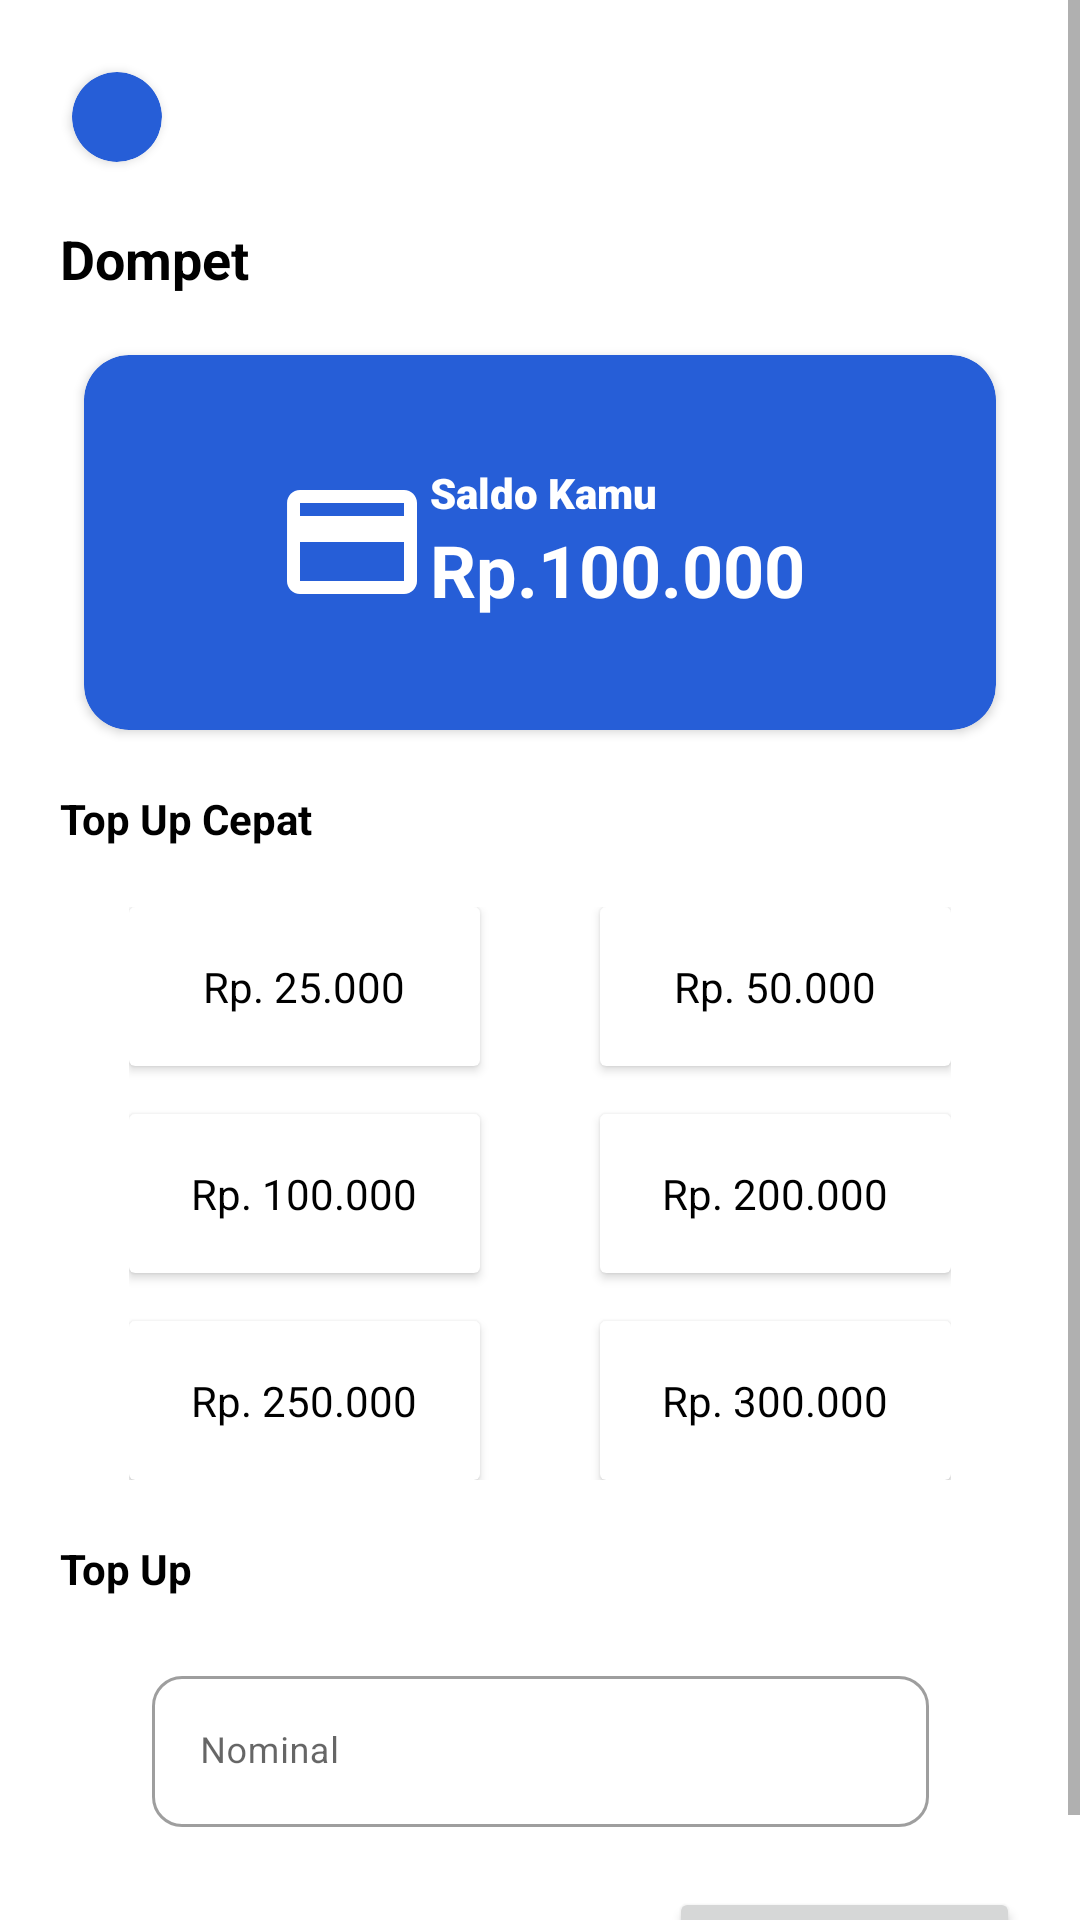

Where to tap for icons on this 1080*1920 app screen, as (x=x, y=y):
credit card: (x=352, y=542)
